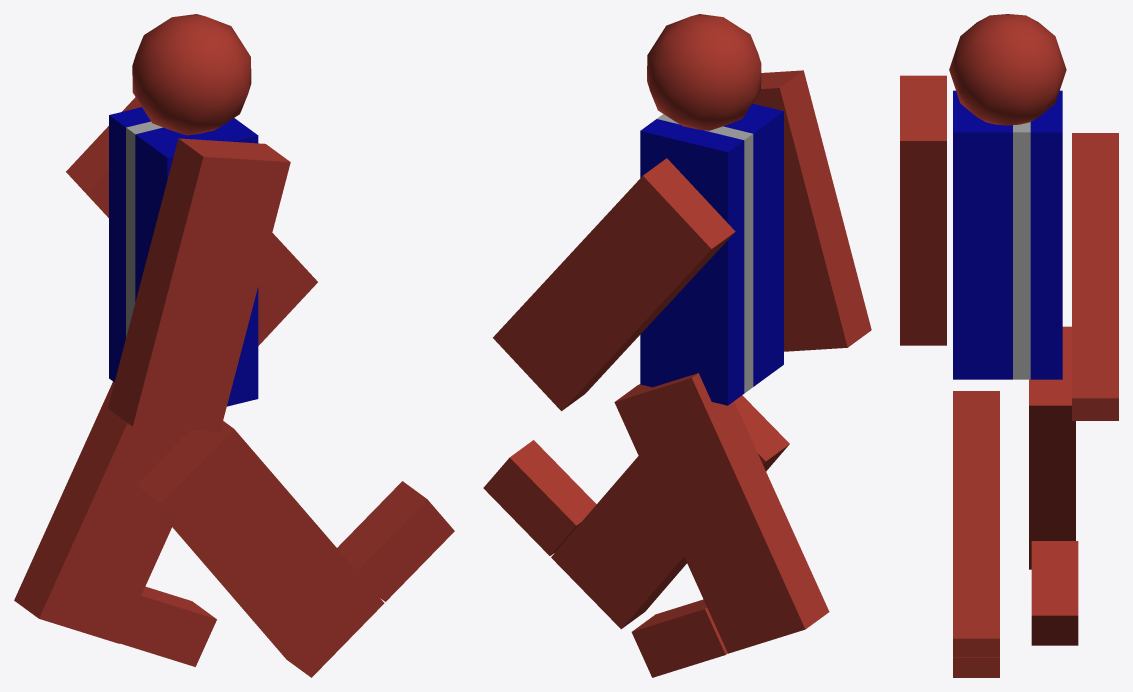
File: player_000019.obj
3 views of the same model, side by side, from view 1: azimuth 30°, elevation 25°; view 2: azimuth 150°, elevation 25°; view 3: azimuth 270°, elevation 25° (orthographic). The views are drawn at different scales.
Parts seen in each view (by area): view 1: Cube.005, Cube.001, Cube.002, Cube, Icosphere, Cube.003, Cube.006, Cube.004; view 2: Cube.002, Cube, Cube.006, Cube.005, Cube.001, Icosphere, Cube.003, Cube.004; view 3: Cube, Cube.006, Cube.005, Cube.001, Icosphere, Cube.002, Cube.004, Cube.003.
Boxes of the visible parts, box(x1,y1,x2,y2) form: Cube.005: box(107, 138, 290, 432); Cube.001: box(136, 421, 384, 677); Cube.002: box(14, 381, 189, 643); Cube: box(109, 107, 258, 406); Icosphere: box(132, 14, 251, 135); Cube.003: box(337, 481, 454, 601); Cube.006: box(66, 97, 317, 345); Cube.004: box(119, 586, 216, 666); Cube.002: box(614, 373, 829, 653); Cube: box(640, 103, 783, 405); Cube.006: box(493, 158, 735, 411); Cube.005: box(752, 70, 871, 351); Cube.001: box(551, 395, 789, 629); Icosphere: box(647, 14, 761, 130); Cube.003: box(483, 440, 596, 555); Cube.004: box(631, 599, 727, 677); Cube: box(953, 90, 1062, 379); Cube.006: box(1072, 133, 1118, 420); Cube.005: box(900, 75, 946, 345); Cube.001: box(953, 391, 999, 677); Icosphere: box(949, 14, 1066, 125); Cube.002: box(1029, 326, 1075, 569); Cube.004: box(1031, 541, 1078, 645); Cube.003: box(953, 590, 999, 657).
Bounding box in the file's own units: 1.7 × 2.85 × 0.9137.
